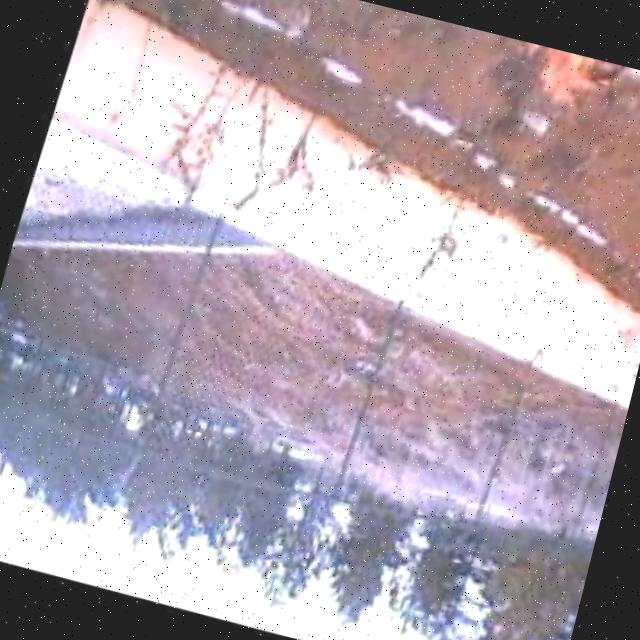fire: (481, 34, 640, 146)
